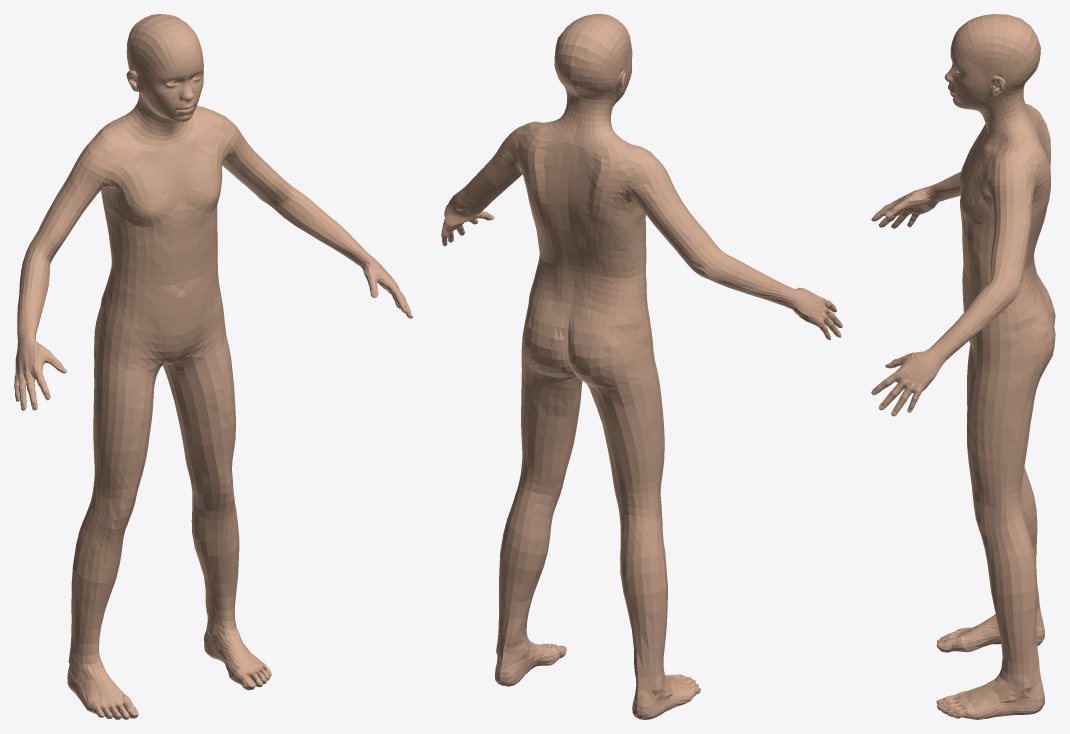
Rendered from peds_nurse_kevin.anny_base.obj.
The picture shows the model from 3 angles, left to right: view 1: azimuth 30°, elevation 25°; view 2: azimuth 150°, elevation 25°; view 3: azimuth 270°, elevation 25°; orthographic projection.
Size of the model in its own units: 1.08 by 1.76 by 0.4437.
